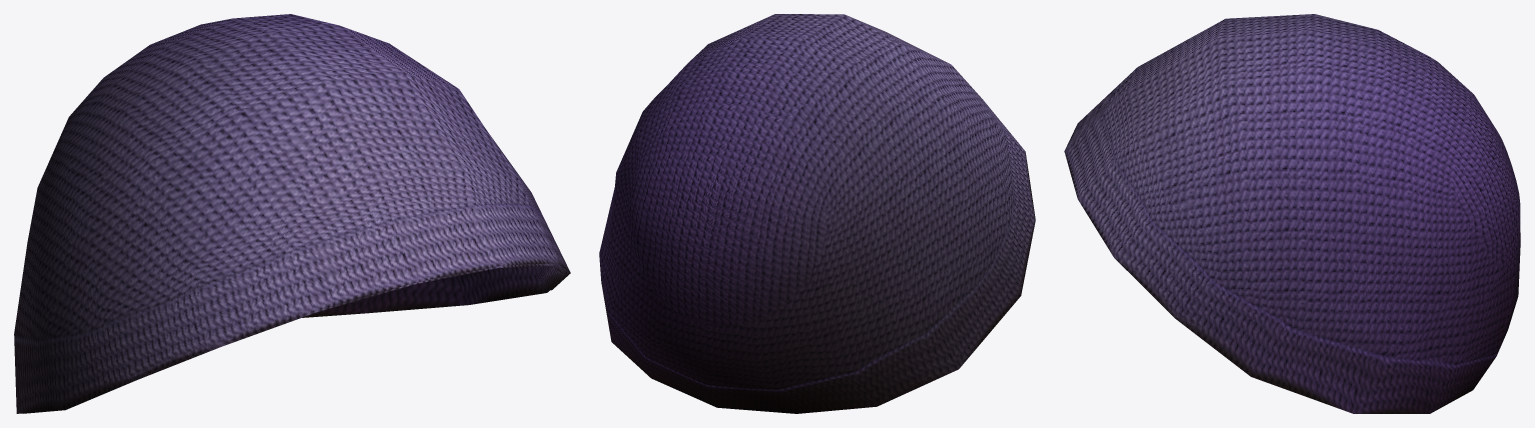
The model's file is TPHatA.fbx.
3 renders of one model, left to right at view 1: azimuth 30°, elevation 25°; view 2: azimuth 150°, elevation 25°; view 3: azimuth 270°, elevation 25°, orthographic. The views are drawn at different scales.
Visible parts, largest first — view 1: TPHatA; view 2: TPHatA; view 3: TPHatA.
Boxes of the visible parts, left/top/right/bottom form: TPHatA: left=14, top=14, right=570, bottom=413; TPHatA: left=599, top=14, right=1035, bottom=413; TPHatA: left=1064, top=14, right=1520, bottom=413.
Size of the model in its own units: 23.18 by 17.69 by 22.27.
1 material, 1 textured.
